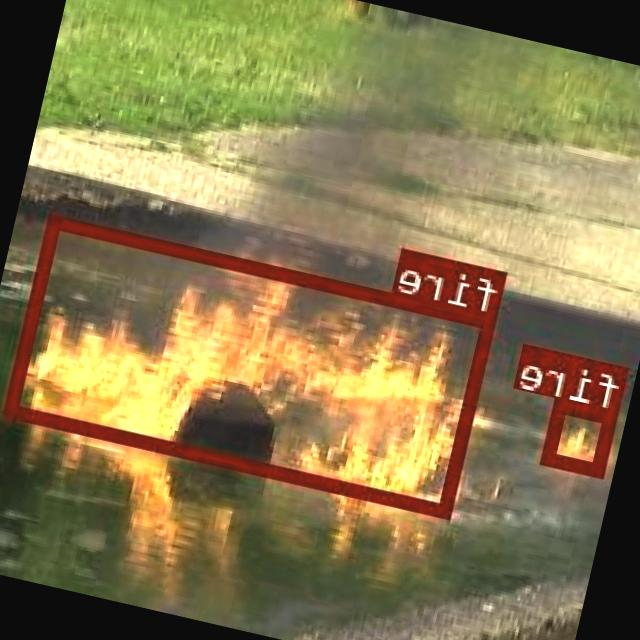fire: (7, 212, 500, 517), (543, 398, 619, 476)
